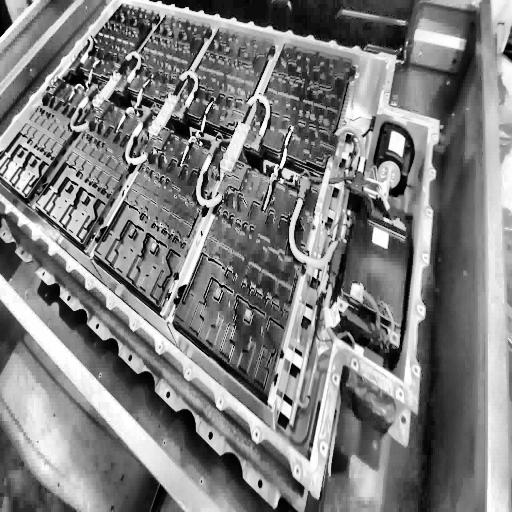bms_unit: (334, 183, 414, 350)
high_volt_cable: (283, 176, 345, 288), (192, 134, 228, 211), (237, 87, 275, 155), (63, 85, 99, 140), (169, 64, 202, 124), (123, 106, 152, 171), (113, 44, 144, 102), (83, 32, 95, 68)
